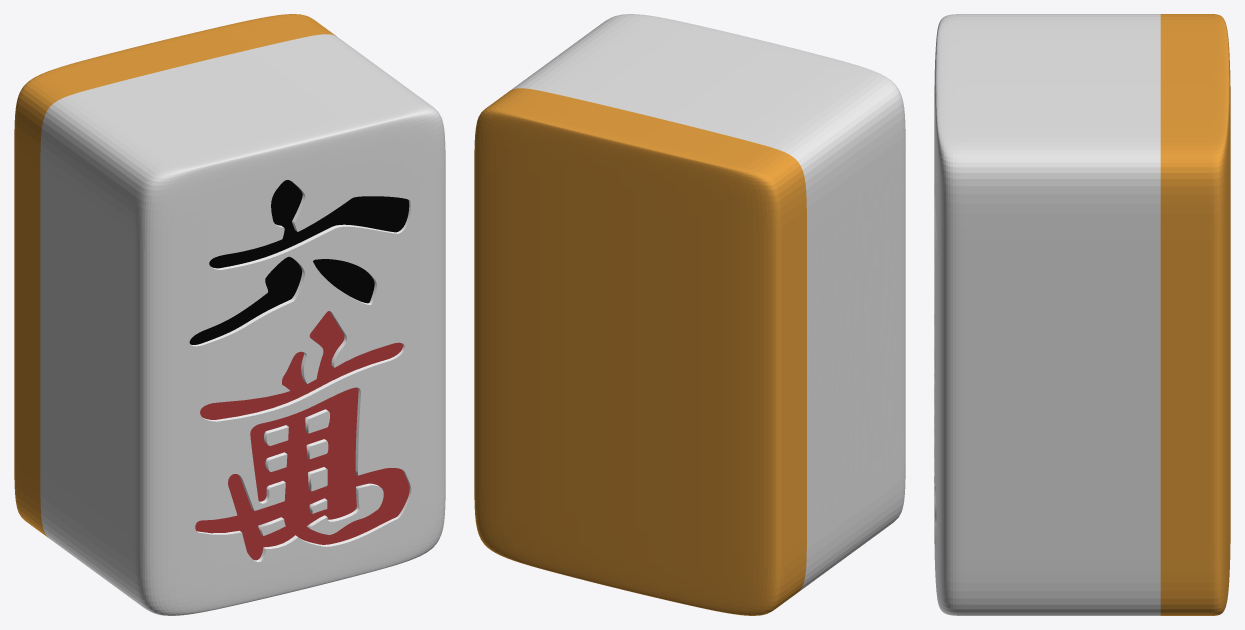
File: Man6.fbx
The picture shows the model from 3 angles, left to right: view 1: azimuth 30°, elevation 25°; view 2: azimuth 150°, elevation 25°; view 3: azimuth 270°, elevation 25°; orthographic projection. The views are drawn at different scales.
Visible parts, largest first — view 1: Man6; view 2: Man6; view 3: Man6.
Boxes of the visible parts, <box> form: Man6: <box>14,14,445,615</box>; Man6: <box>474,14,905,615</box>; Man6: <box>934,14,1230,615</box>.
Size of the model in its own units: 2 by 2.8 by 1.59.
